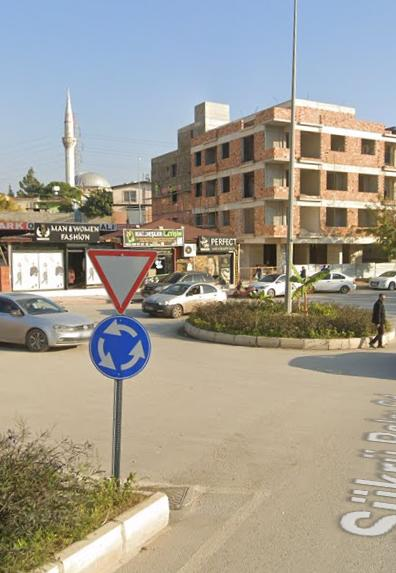crossroads: (91, 319, 150, 377)
